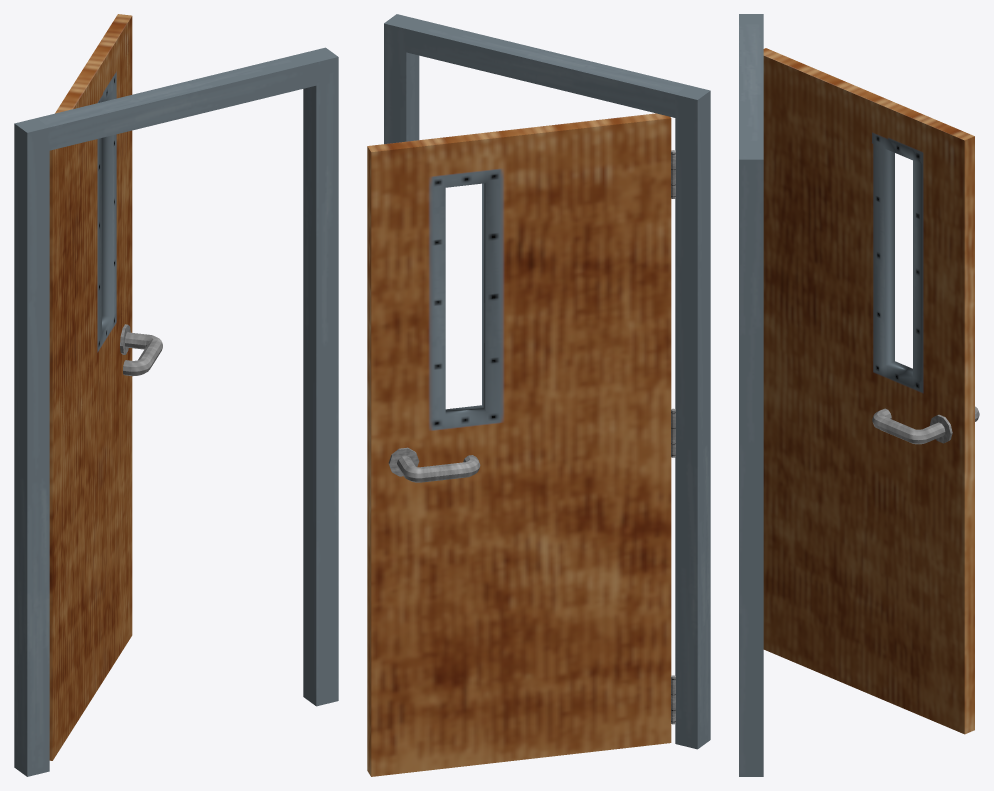
File: Bennett_Half_Open_Door 1.fbx
3 views of the same model, side by side, from view 1: azimuth 30°, elevation 25°; view 2: azimuth 150°, elevation 25°; view 3: azimuth 270°, elevation 25° (orthographic). The views are drawn at different scales.
Visible parts, largest first — view 1: Half_Open; view 2: Half_Open; view 3: Half_Open.
Part boxes in pixels (x1,y1,x2,y2): Half_Open: [14, 14, 338, 776]; Half_Open: [367, 14, 710, 776]; Half_Open: [739, 14, 979, 776].
Bounding box in the file's own units: 3.5 × 6.92 × 2.45.
